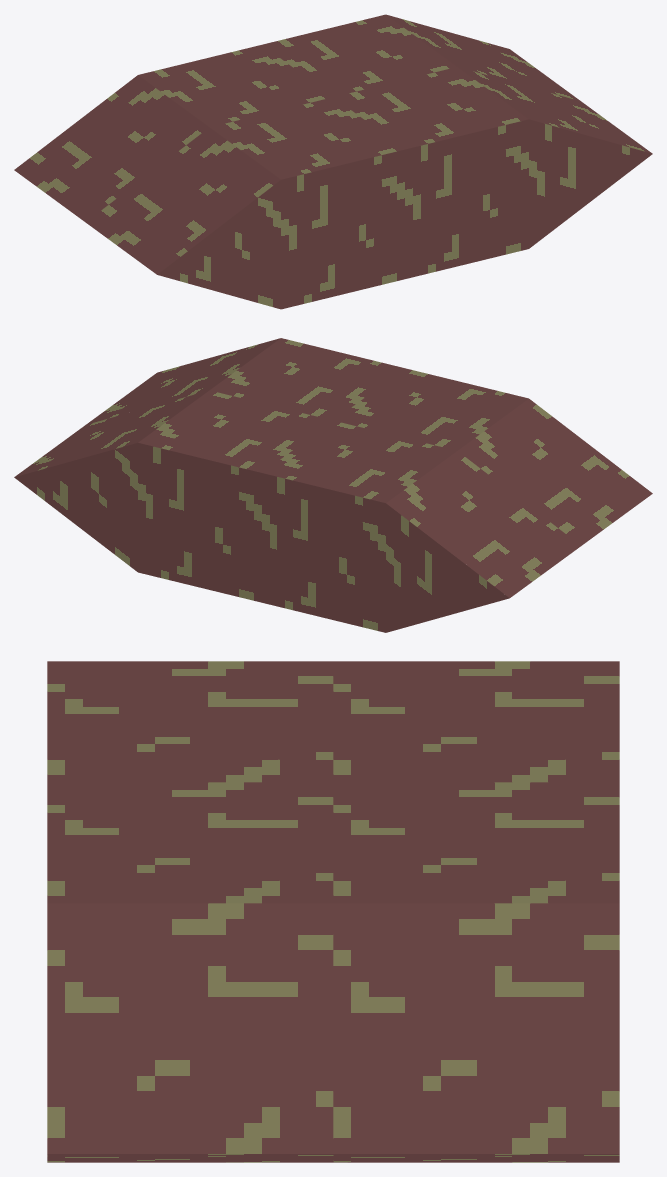
Rendered from Platform.gltf.
The picture shows the model from 3 angles, top to bottom: view 1: azimuth 30°, elevation 25°; view 2: azimuth 150°, elevation 25°; view 3: azimuth 270°, elevation 25°; orthographic projection. The views are drawn at different scales.
Size of the model in its own units: 4 by 1 by 2.
1 material, 1 textured.
